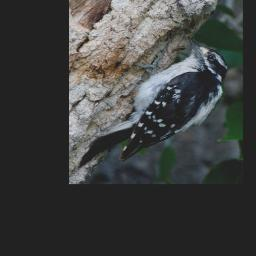Woodpecker: (75, 37, 231, 168)
